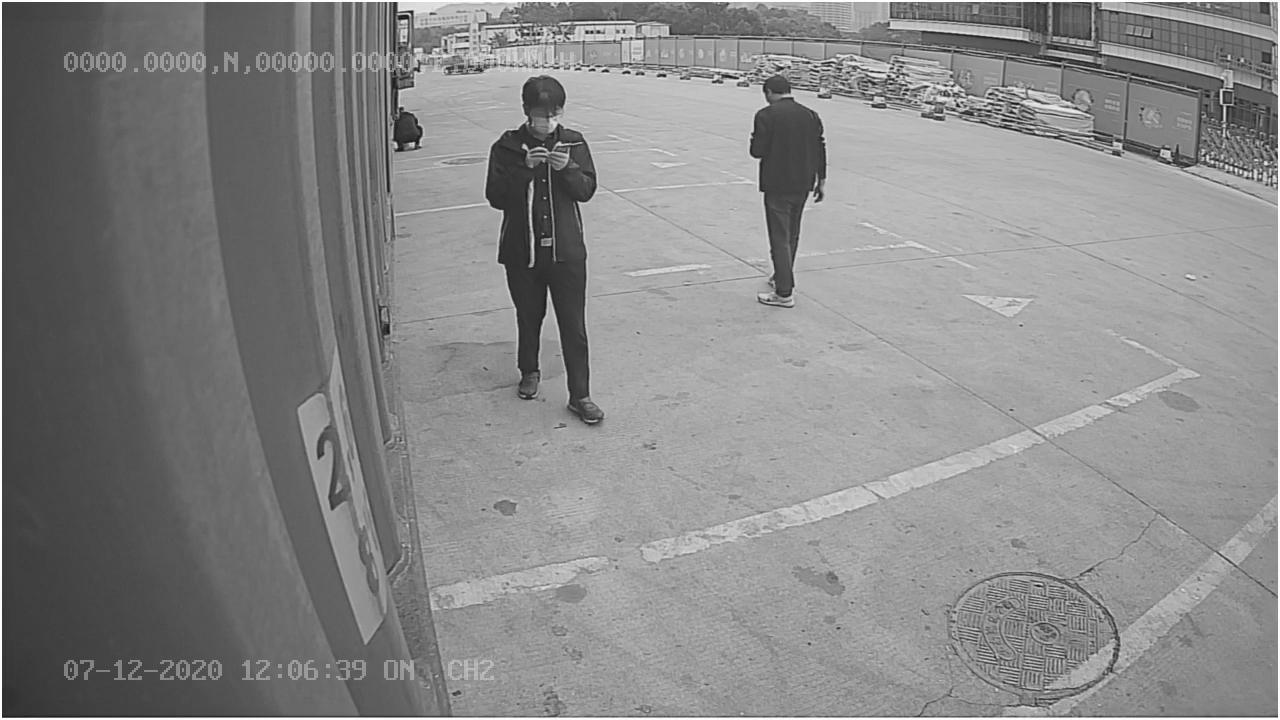person: (476, 73, 603, 427), (739, 73, 827, 310)
